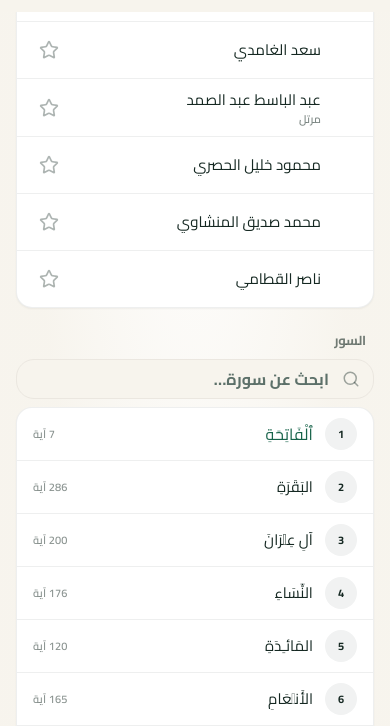
Test: Reciters screen › a playback failure is reported, not hidden
(page scrolled)
Step 1. Click the button "1 ٱلْفَاتِحَةِ 7 آية" → (341,434), box [17, 408, 373, 460]
(page scrolled)
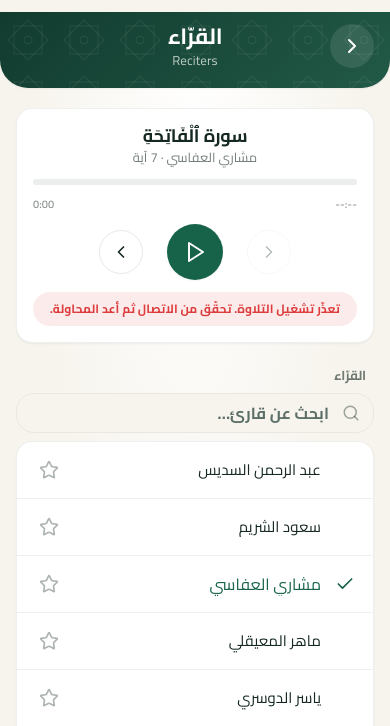
Expected: the message "تعذّر تشغيل التلاوة. تحقّق من الاتصال ثم أعد المحاولة." is shown, [33, 292, 357, 326]
